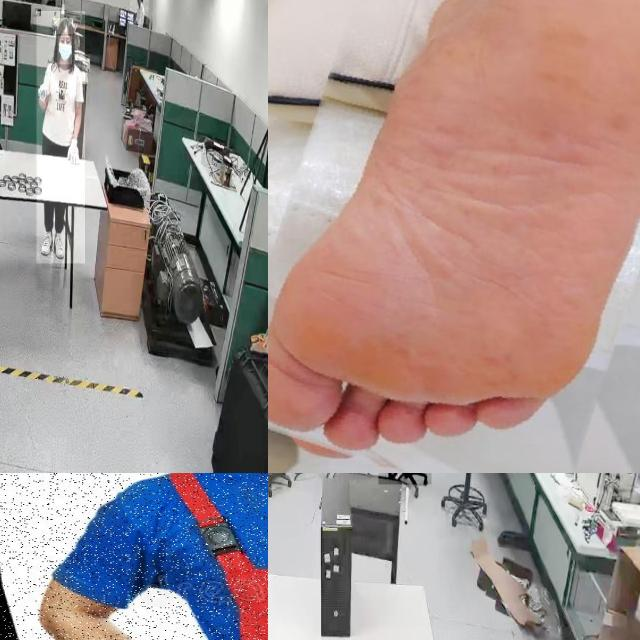Barefoots: (268, 0, 640, 473)
face_mask: (65, 131, 85, 171), (38, 76, 54, 112), (58, 36, 72, 64)
glasses: (387, 473, 407, 483)
head_nohelmet: (56, 18, 74, 35)
person: (14, 473, 268, 640), (36, 11, 86, 264), (130, 0, 149, 25)
shoes: (54, 226, 68, 264), (39, 224, 53, 258)
